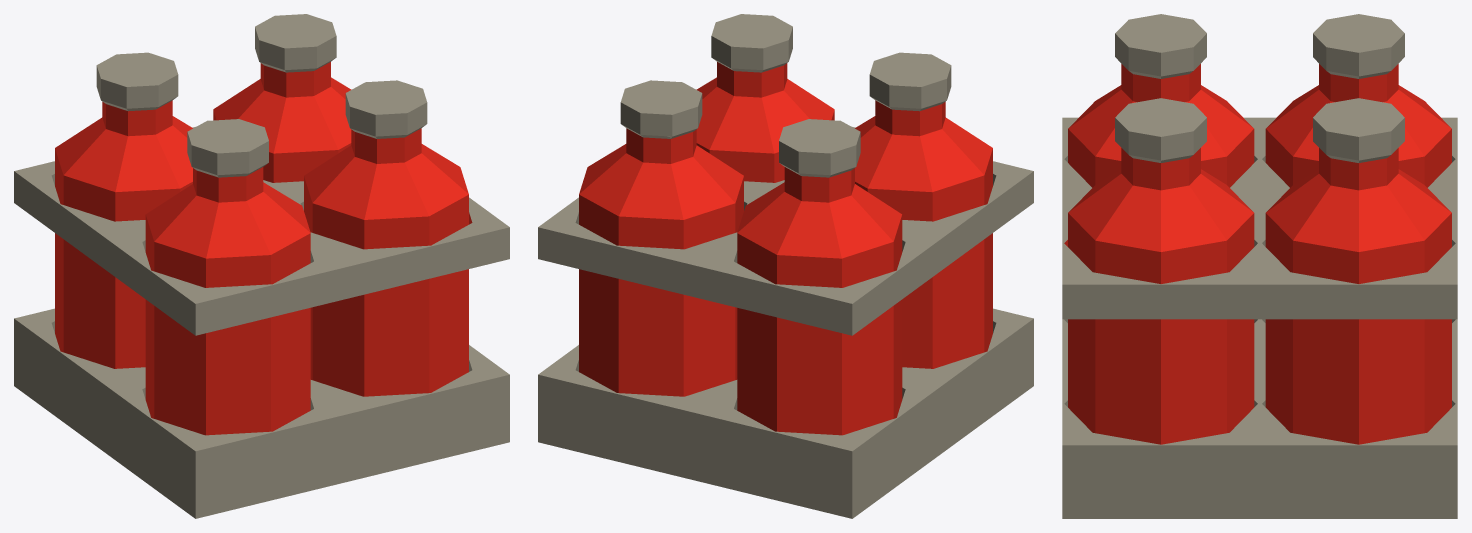
File: Ballons_Destroyed.fbx
3 views of the same model, side by side, from view 1: azimuth 30°, elevation 25°; view 2: azimuth 150°, elevation 25°; view 3: azimuth 270°, elevation 25° (orthographic). The views are drawn at different scales.
Visible parts, largest first — view 1: balon.003, balon.009, balon.012, balon.008, balon.005, balon.010, balon.016, balon.004, balon.002, balon.014, balon.017, balon.018 (+3 smaller); view 2: balon.004, balon.007, balon.013, balon.011, balon.012, balon.008, balon.003, balon.016, balon.005, balon.015, balon.019, balon.018 (+4 smaller); view 3: balon.011, balon.007, balon.009, balon.005, balon.002, balon.003, balon.013, balon.012, balon.019, balon.006, balon.018, balon.014 (+2 smaller).
Boxes of the visible parts, x1,y1,x2,y2 form: balon.003: (150,119,307,335); balon.009: (279,125,509,379); balon.012: (14,52,180,285); balon.008: (55,261,261,518); balon.005: (331,80,509,240); balon.010: (143,364,407,502); balon.016: (100,183,335,391); balon.004: (14,271,151,486); balon.002: (364,335,509,477); balon.014: (309,295,437,421); balon.017: (109,187,358,404); balon.018: (83,115,245,351); balon.004: (690,378,989,518); balon.007: (538,121,715,335); balon.013: (675,146,868,418); balon.011: (538,288,712,479); balon.012: (779,119,940,348); balon.008: (829,295,1033,417); balon.003: (869,52,1033,216); balon.016: (855,116,1014,282); balon.005: (696,14,828,127); balon.015: (674,342,773,460); balon.019: (652,144,864,344); balon.018: (666,172,947,348); balon.011: (1167,319,1457,518); balon.007: (1237,135,1457,394); balon.009: (1062,141,1293,430); balon.005: (1062,98,1230,298); balon.002: (1062,393,1298,518); balon.003: (1062,14,1206,173); balon.013: (1344,52,1457,204); balon.012: (1266,14,1457,128); balon.019: (1207,126,1317,343); balon.006: (1313,98,1404,172); balon.018: (1237,102,1320,174); balon.014: (1062,319,1282,410).
Bounding box in the file's own units: 99 × 99.45 × 99.
